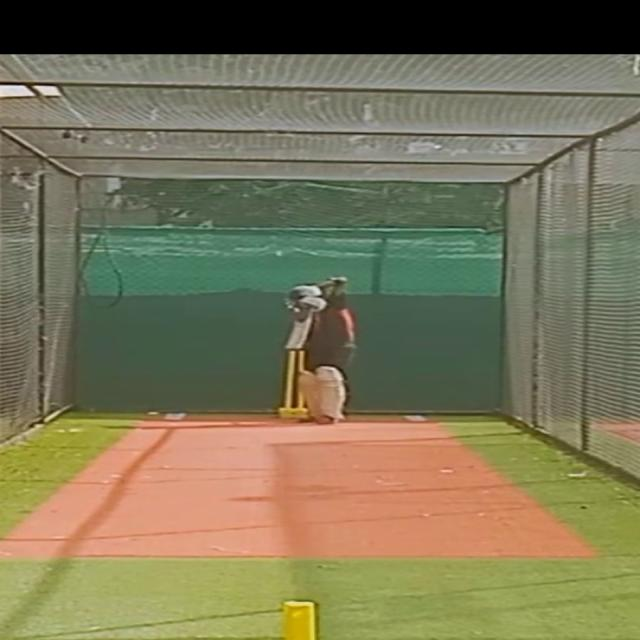stump: (277, 350, 305, 419)
